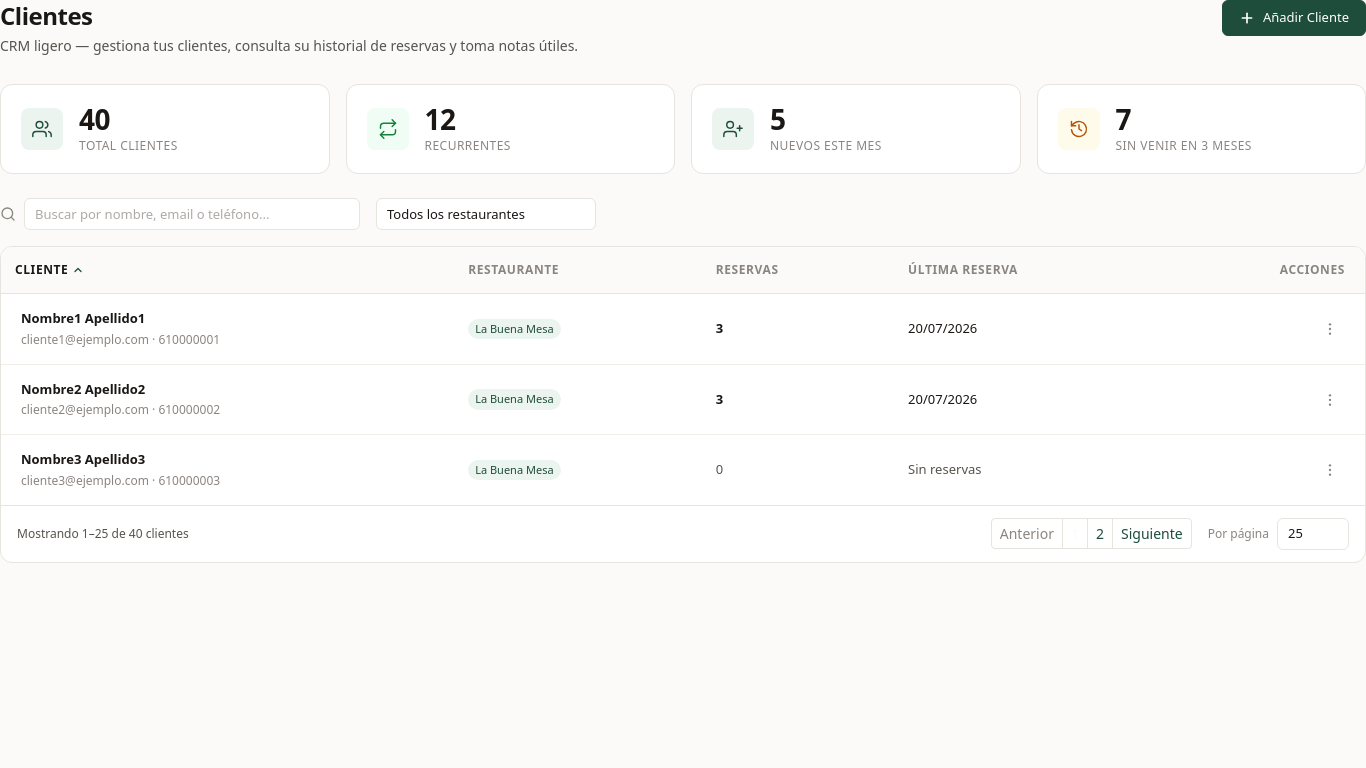
Clientes — menú de acciones › abre el formulario de edición con los datos del cliente
Expected: the text "Nombre1 Apellido1" is shown, [21,309,145,327]
Click the button named "Acciones de".
click(1330, 329)  # box [1315,314,1345,344]
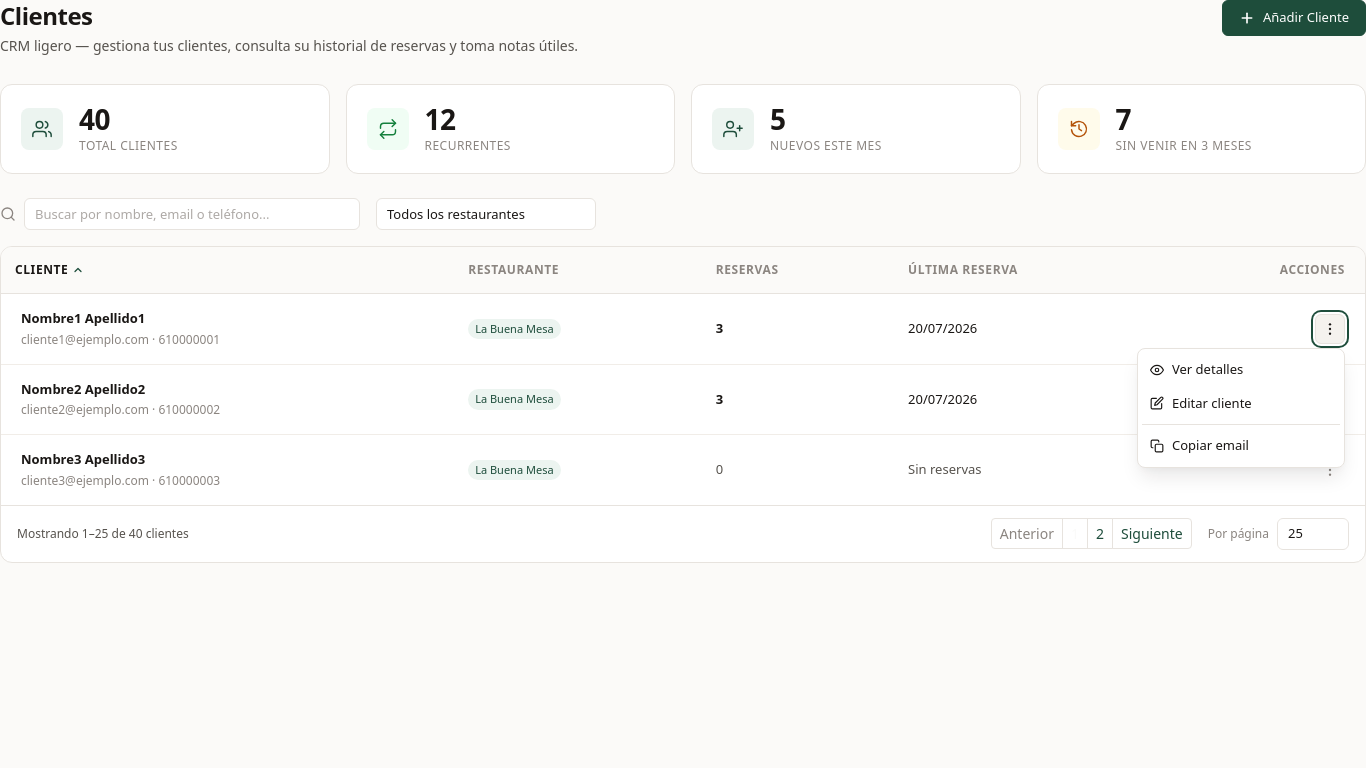
Click the menu item "Editar cliente".
click(1241, 403)  # box [1142,387,1340,420]
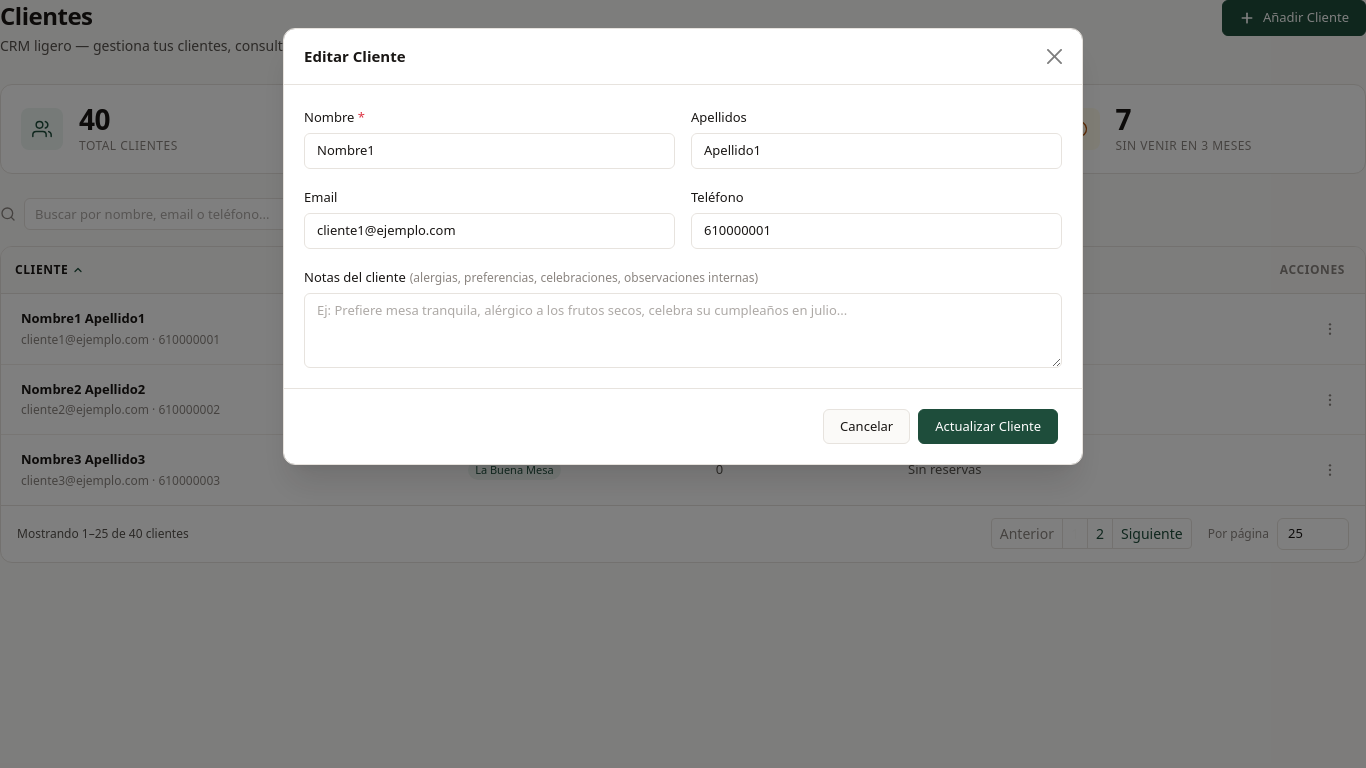
Expected: the heading "Editar Cliente" is shown, [304,45,406,68]
Expected: the field showing "cliente1@ejemplo.com" is shown, [304,213,675,248]
